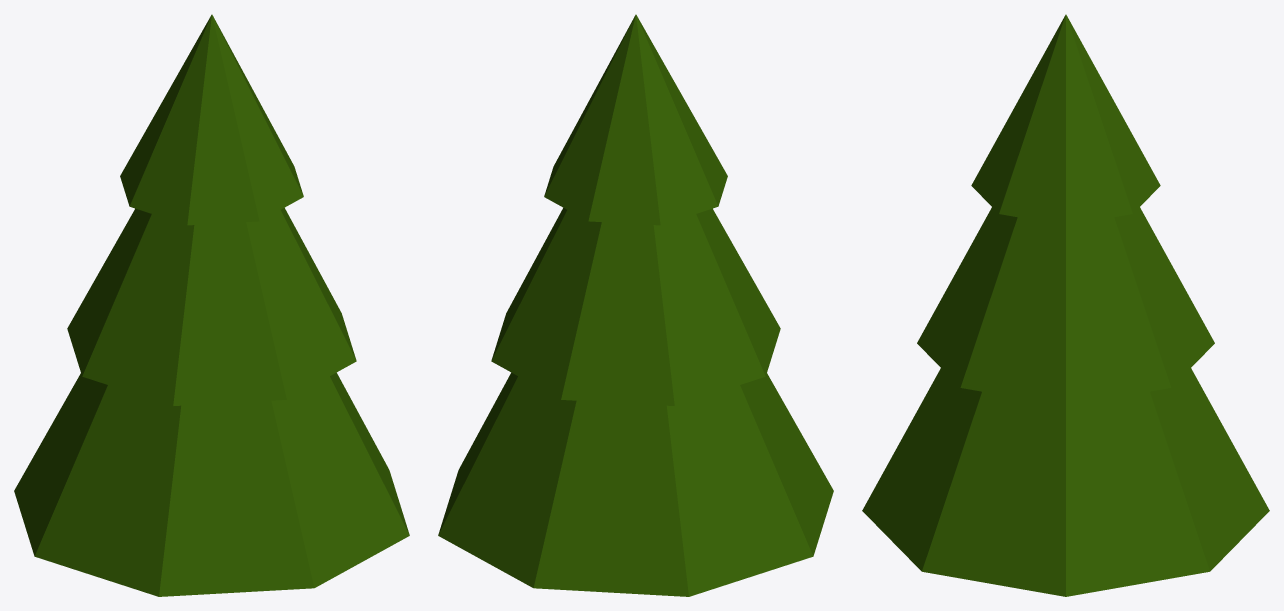
Rendered from daun.fbx.
3 views of the same model, side by side, from view 1: azimuth 30°, elevation 25°; view 2: azimuth 150°, elevation 25°; view 3: azimuth 270°, elevation 25° (orthographic).
Parts seen in each view (by area): view 1: Cone, Cone.001, Cone.002; view 2: Cone, Cone.001, Cone.002; view 3: Cone, Cone.001, Cone.002.
Boxes of the visible parts, bbox=[...] form: Cone: bbox=[14, 372, 409, 596]; Cone.001: bbox=[67, 208, 356, 406]; Cone.002: bbox=[120, 14, 303, 225]; Cone: bbox=[438, 372, 833, 596]; Cone.001: bbox=[491, 208, 780, 406]; Cone.002: bbox=[544, 14, 727, 225]; Cone: bbox=[862, 368, 1269, 596]; Cone.001: bbox=[917, 207, 1214, 406]; Cone.002: bbox=[971, 14, 1160, 225].
Bounding box in the file's own units: 672 × 904 × 672.
